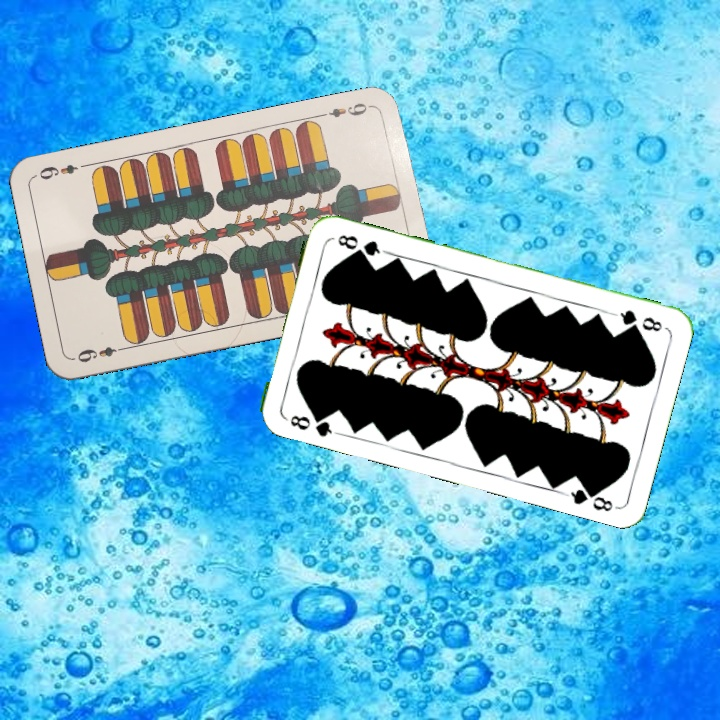E9: (70, 342, 129, 365), (317, 98, 376, 120)
G8: (286, 408, 339, 440), (609, 305, 665, 335)
